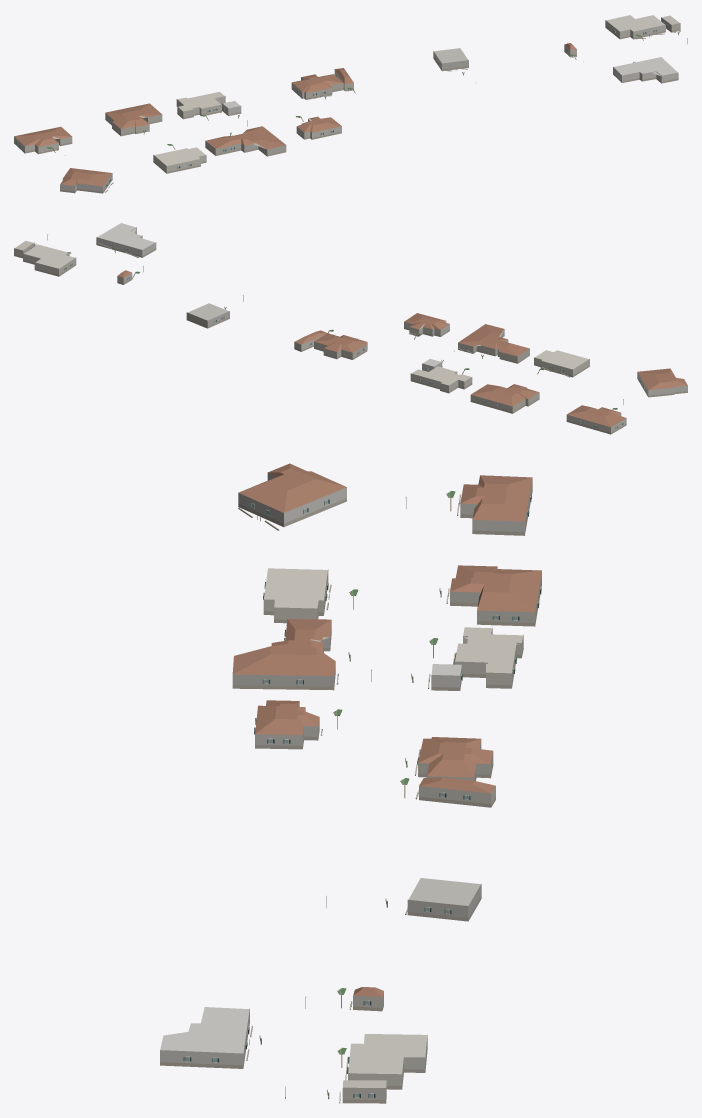
The model's file is nw_mk_weg.glb.
The picture shows the model from 3 angles, top to bottom: view 1: azimuth 30°, elevation 25°; view 2: azimuth 150°, elevation 25°; view 3: azimuth 270°, elevation 25°; orthographic projection. The views are drawn at different scales.
Parts seen in each view (by area): view 1: nw_mk_weg_lod0; view 2: nw_mk_weg_lod0; view 3: nw_mk_weg_lod0.
Boxes of the visible parts, x1,y1,x2,y2 form: nw_mk_weg_lod0: (14,15,687,193); nw_mk_weg_lod0: (14,223,687,434); nw_mk_weg_lod0: (160,463,541,1103).
Size of what is drawn, in the model's own units: 341 by 9.21 by 88.8.
